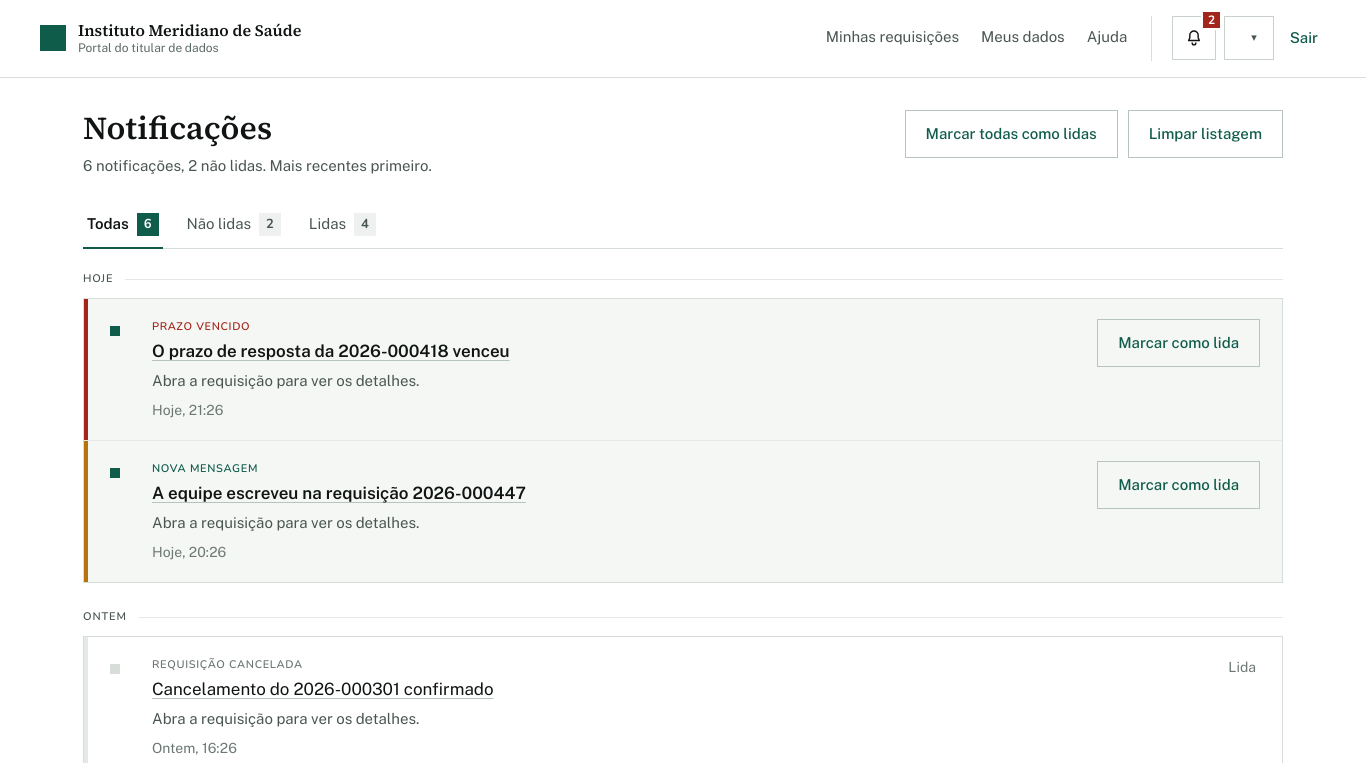
Test: NotificationsView › marca todas como lidas e trava o botão
Click the button "Marcar todas como lidas": click(1011, 134) [905,110,1118,158]
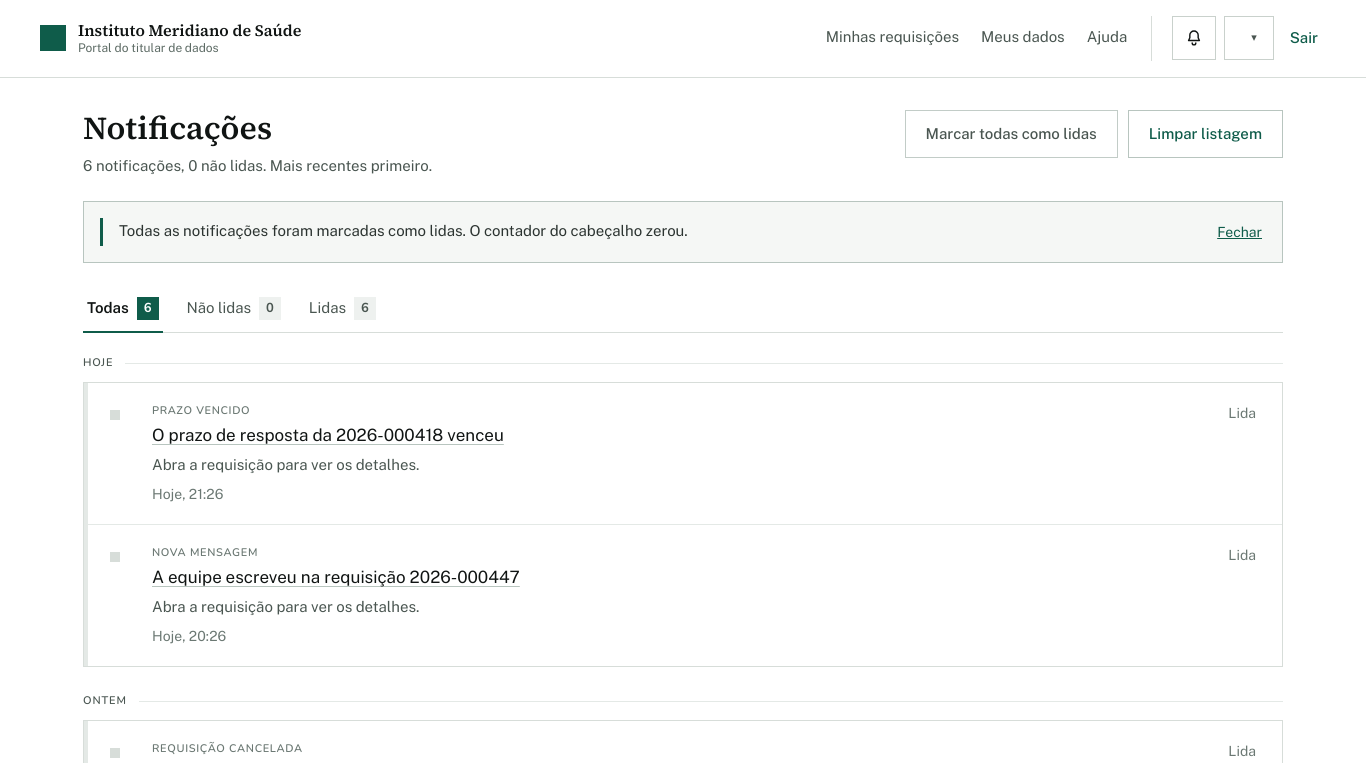
expect the text "0 não lidas" is shown: met, box [83,157,432,174]
expect the button "Marcar todas como lidas" is disabled: met, box [905,110,1118,158]
